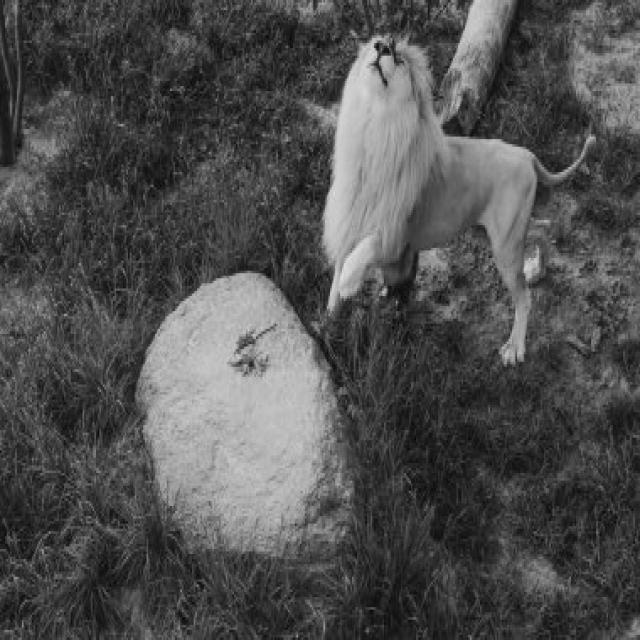Animal: (328, 34, 601, 372)
Stone: (134, 268, 372, 578)
